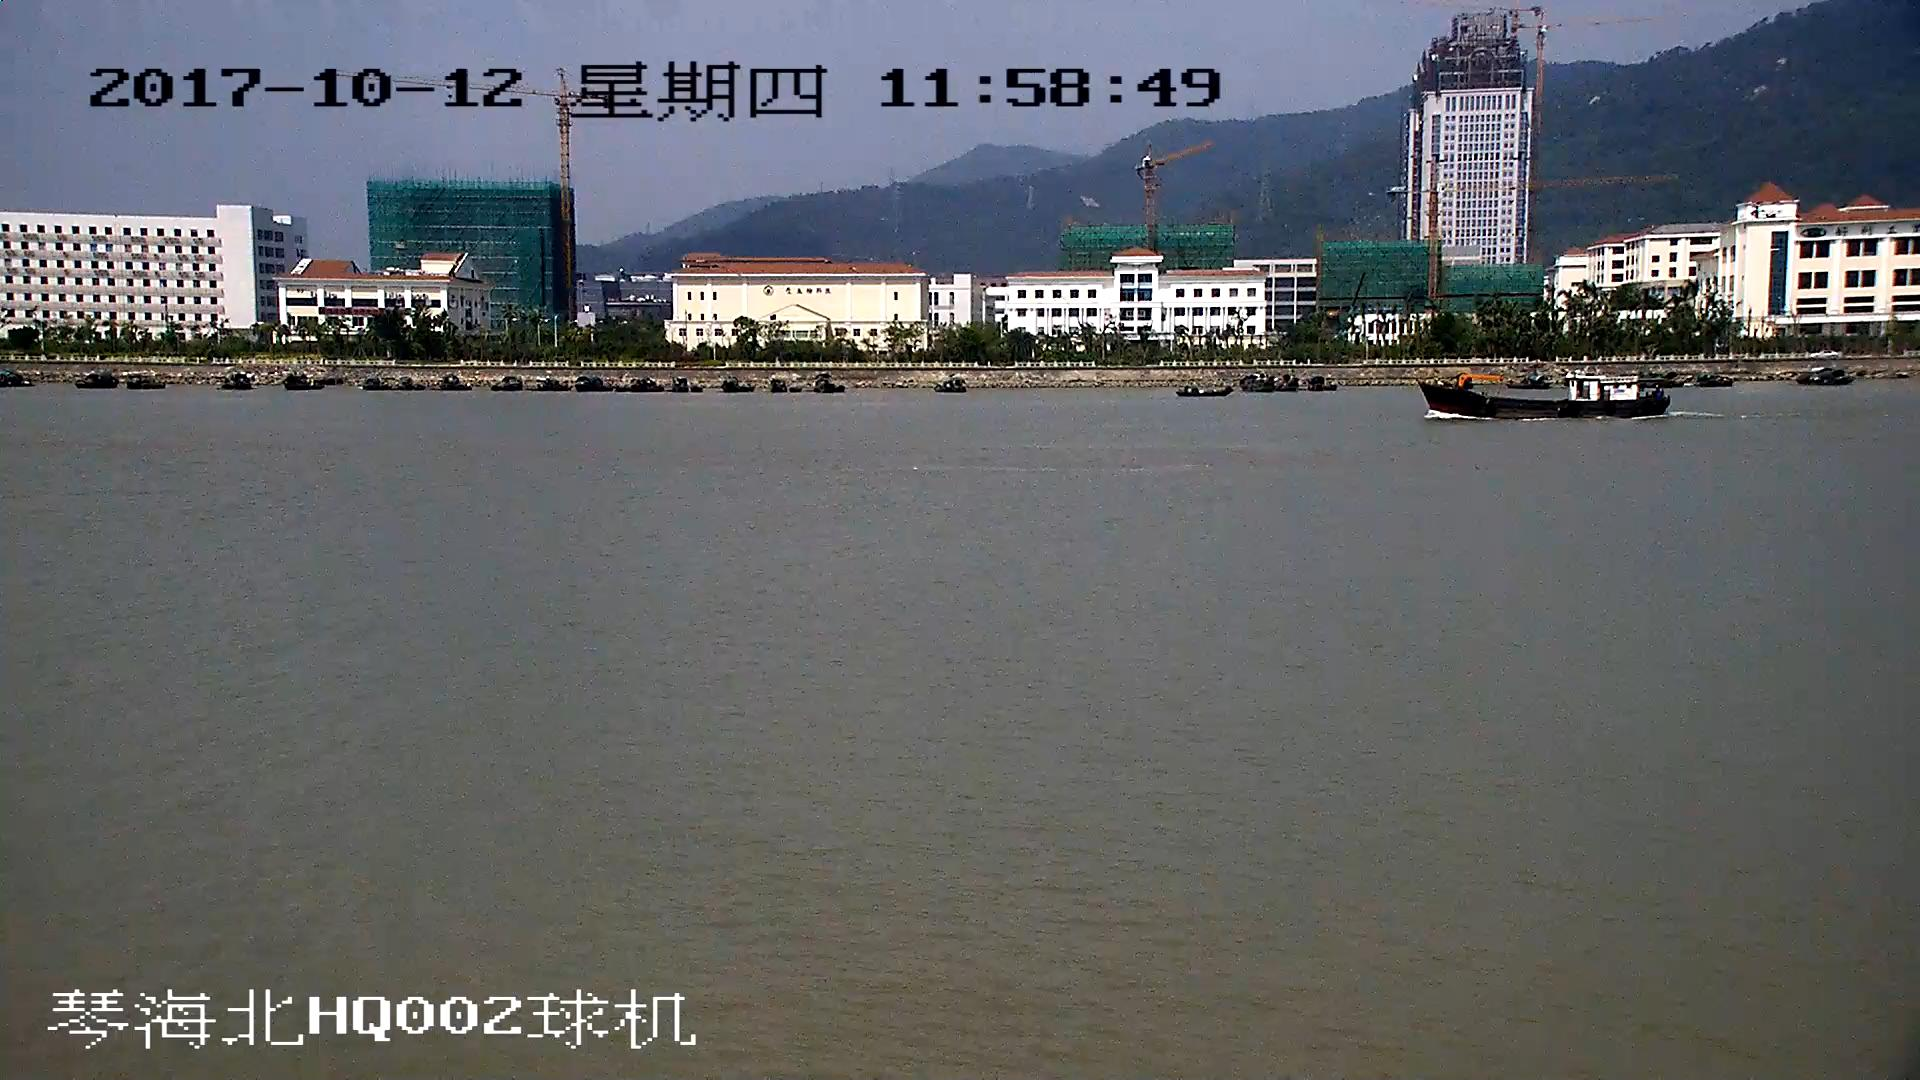fishing boat: (1422, 379, 1664, 419)
